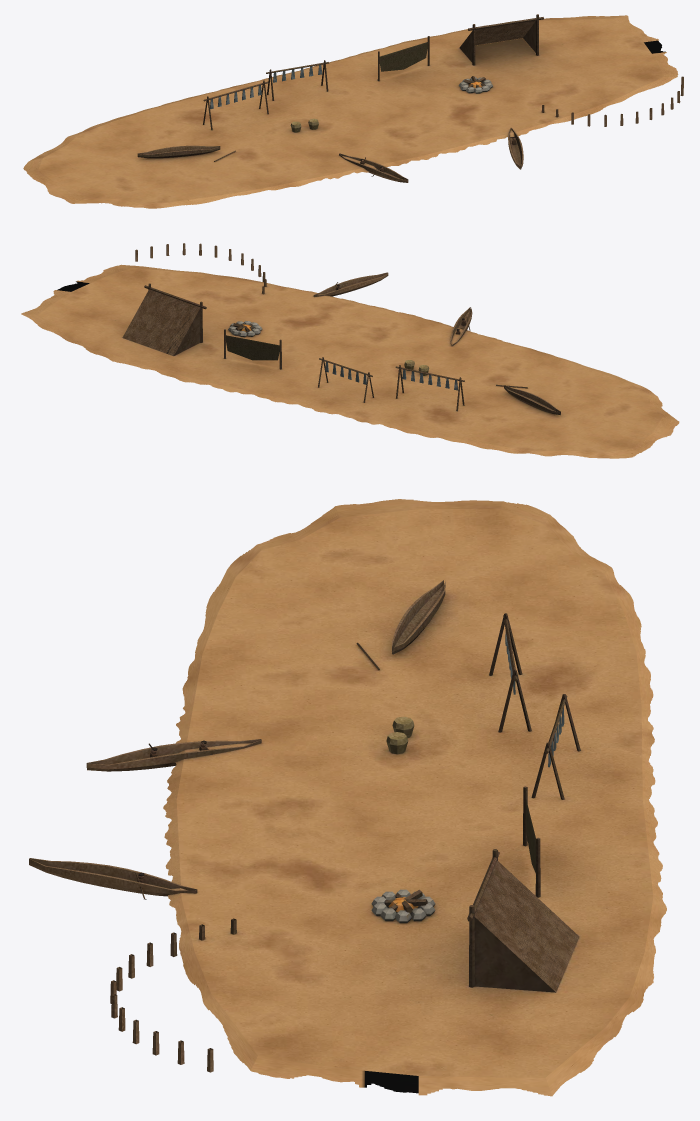
The model's file is fishing_boats-stone.glb.
The picture shows the model from 3 angles, top to bottom: view 1: azimuth 30°, elevation 25°; view 2: azimuth 150°, elevation 25°; view 3: azimuth 270°, elevation 25°; orthographic projection. The views are drawn at different scales.
Parts seen in each view (by area): view 1: LOD0; view 2: LOD0; view 3: LOD0.
Part boxes in pixels (x1,y1,x2,y2): LOD0: [23, 14, 683, 208]; LOD0: [21, 243, 679, 458]; LOD0: [29, 499, 666, 1096].
Size of what is drawn, in the model's own units: 4.73 by 0.3199 by 2.1.
2 materials, 2 textured.
